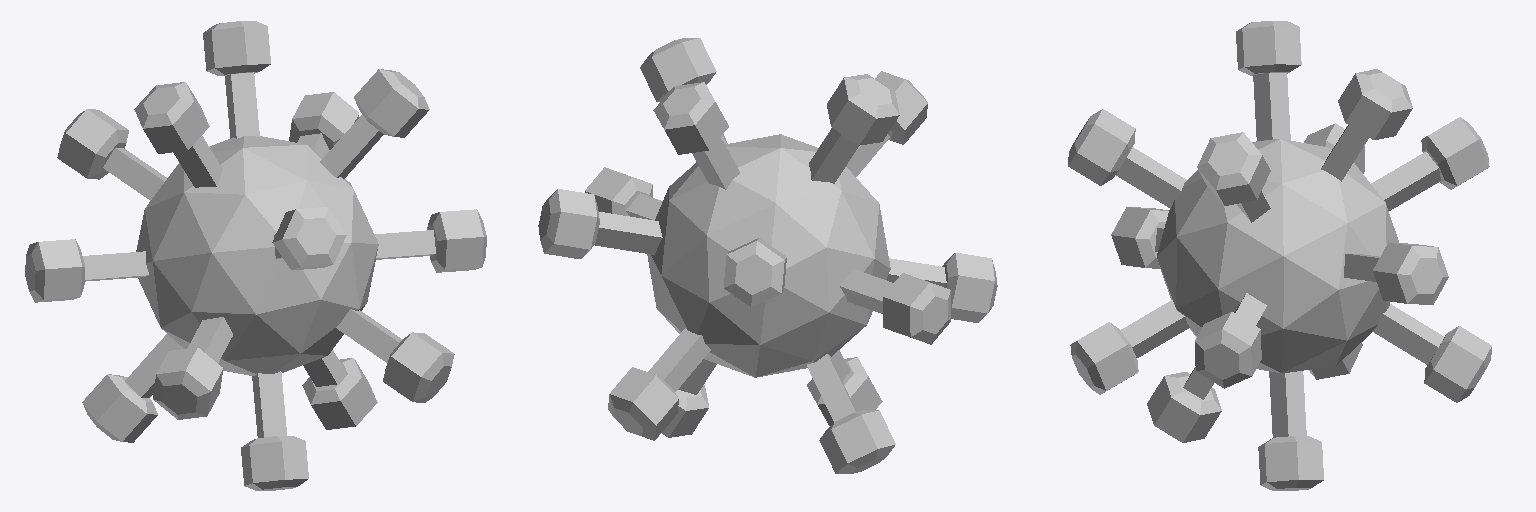
File: uploads_files_2313621_CrownVIrus.obj
3 views of the same model, side by side, from view 1: azimuth 30°, elevation 25°; view 2: azimuth 150°, elevation 25°; view 3: azimuth 270°, elevation 25° (orthographic).
Visible parts, largest first — view 1: Icosphere_Icosphere.002; view 2: Icosphere_Icosphere.002; view 3: Icosphere_Icosphere.002.
Part boxes in pixels (x1,y1,x2,y2): Icosphere_Icosphere.002: (25, 21, 486, 490); Icosphere_Icosphere.002: (538, 38, 997, 473); Icosphere_Icosphere.002: (1068, 21, 1491, 490).
Bounding box in the file's own units: 3.75 × 3.49 × 3.43.